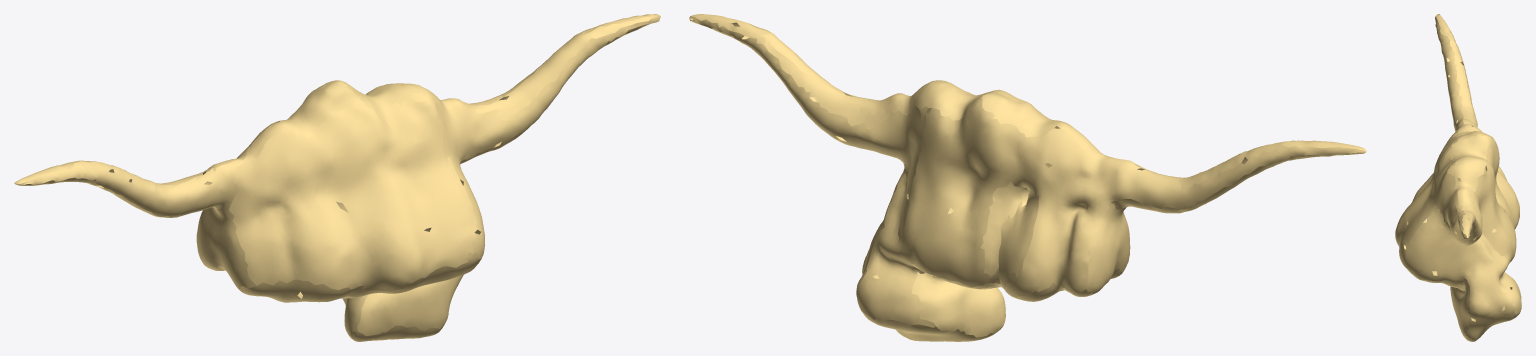
The model's file is punch-pendant-horns-gold.glb.
3 renders of one model, left to right at view 1: azimuth 30°, elevation 25°; view 2: azimuth 150°, elevation 25°; view 3: azimuth 270°, elevation 25°, orthographic. The views are drawn at different scales.
Visible parts, largest first — view 1: mesh.obj; view 2: mesh.obj; view 3: mesh.obj.
Part boxes in pixels (<box>): mesh.obj: <box>14,14,660,341</box>; mesh.obj: <box>689,14,1366,341</box>; mesh.obj: <box>1395,14,1521,341</box>.
Size of the model in its own units: 1.71 by 0.6875 by 0.4235.
